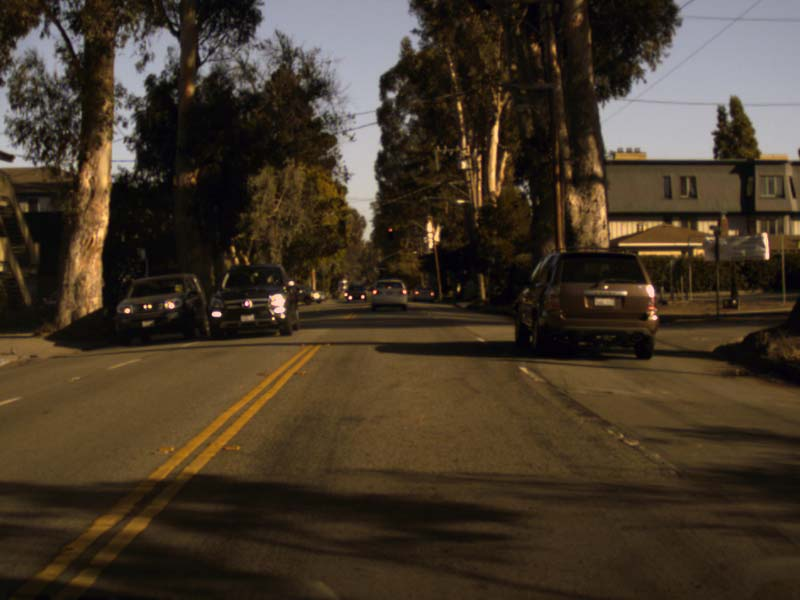Red: (385, 226, 393, 240)
